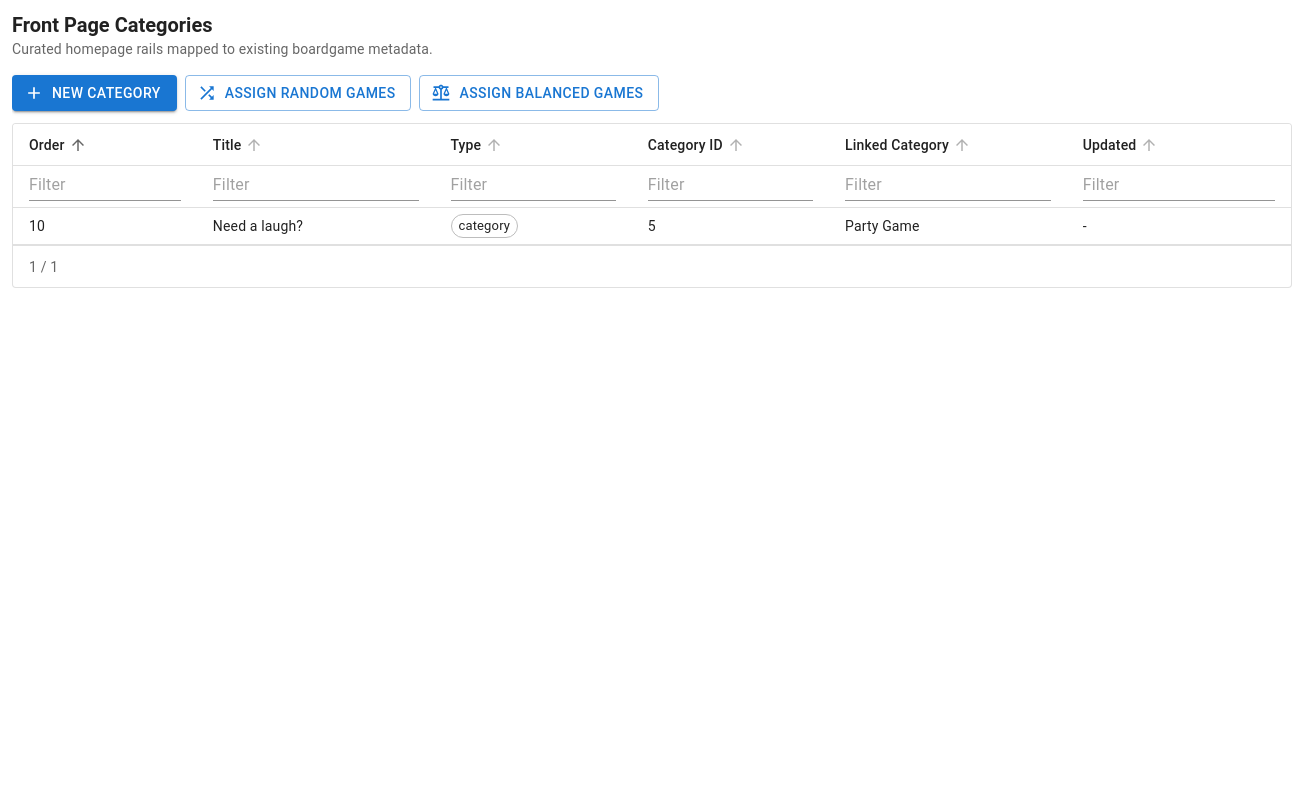
Test case: FrontPageCategoriesPage › starts random item assignment from the table screen
Click the button "Assign Random Games".
click(298, 93)  # box [185,75,412,111]
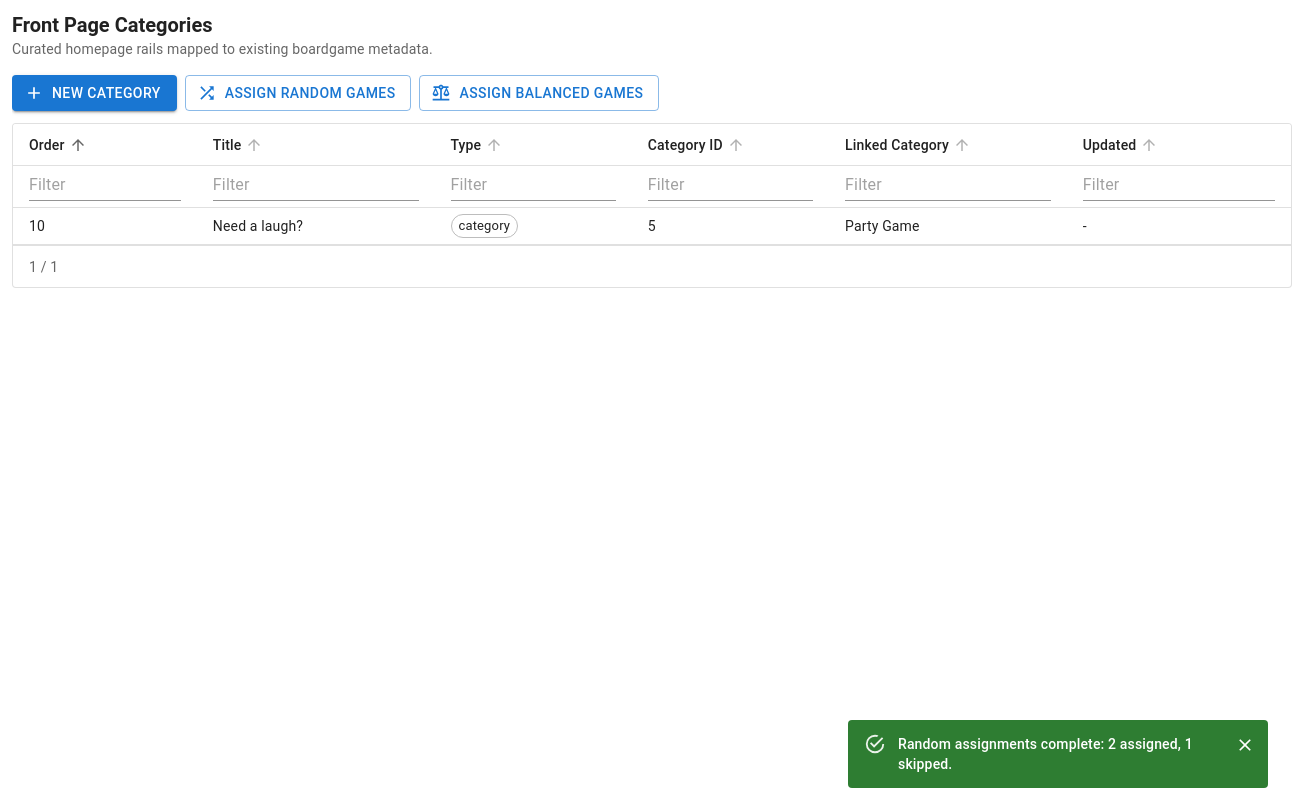
Check: the text "Random assignments complete: 2 assigned, 1 skipped." is shown, box [898,726,1214,782]
